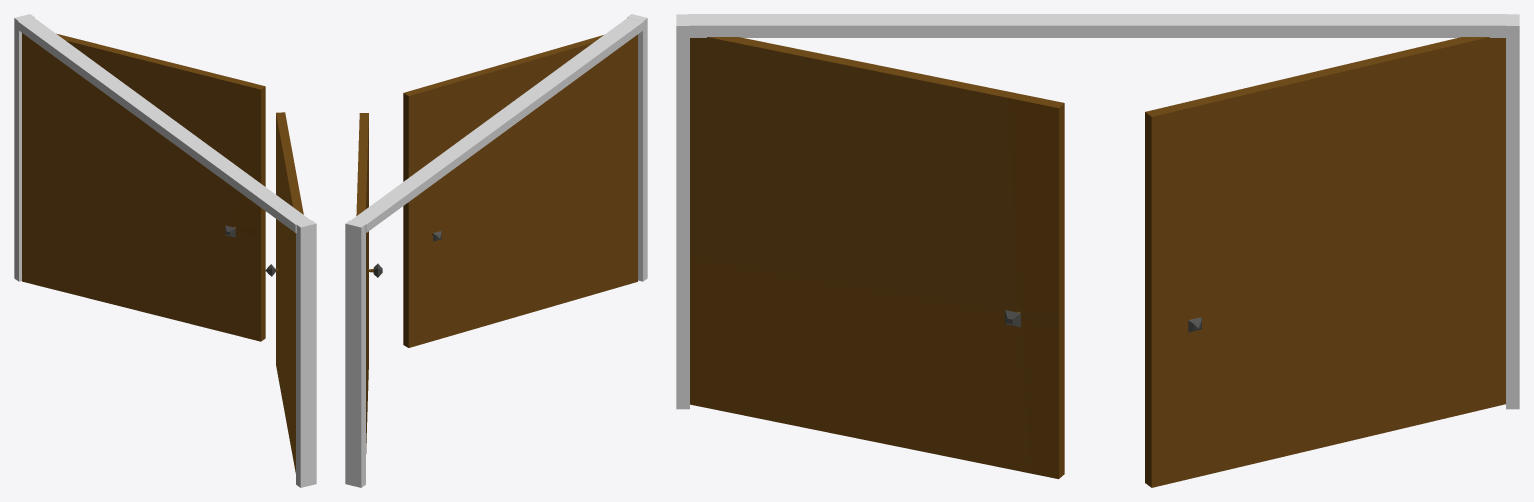
Rendered from TwoDoor.fbx.
3 renders of one model, left to right at view 1: azimuth 30°, elevation 25°; view 2: azimuth 150°, elevation 25°; view 3: azimuth 270°, elevation 25°, orthographic. The views are drawn at different scales.
Parts seen in each view (by area): view 1: Door.001, Cube, Door, Side, Side.001; view 2: Door, Cube, Side.001, Side, Door.001; view 3: Door, Door.001, Cube, Side, Side.001.
Boxes of the visible parts, x1,y1,x2,y2 form: Door.001: (22, 33, 265, 341); Cube: (17, 17, 310, 232); Door: (265, 112, 303, 473); Side: (296, 220, 316, 487); Side.001: (14, 14, 34, 281); Door: (403, 34, 637, 347); Cube: (351, 17, 644, 232); Side.001: (345, 220, 365, 487); Side: (627, 14, 647, 281); Door.001: (356, 113, 382, 453); Door: (690, 37, 1064, 479); Door.001: (1145, 37, 1505, 487); Cube: (688, 14, 1506, 37); Side: (676, 14, 689, 409); Side.001: (1506, 14, 1519, 409).
Size of the model in its own units: 317 by 620 by 1236.
